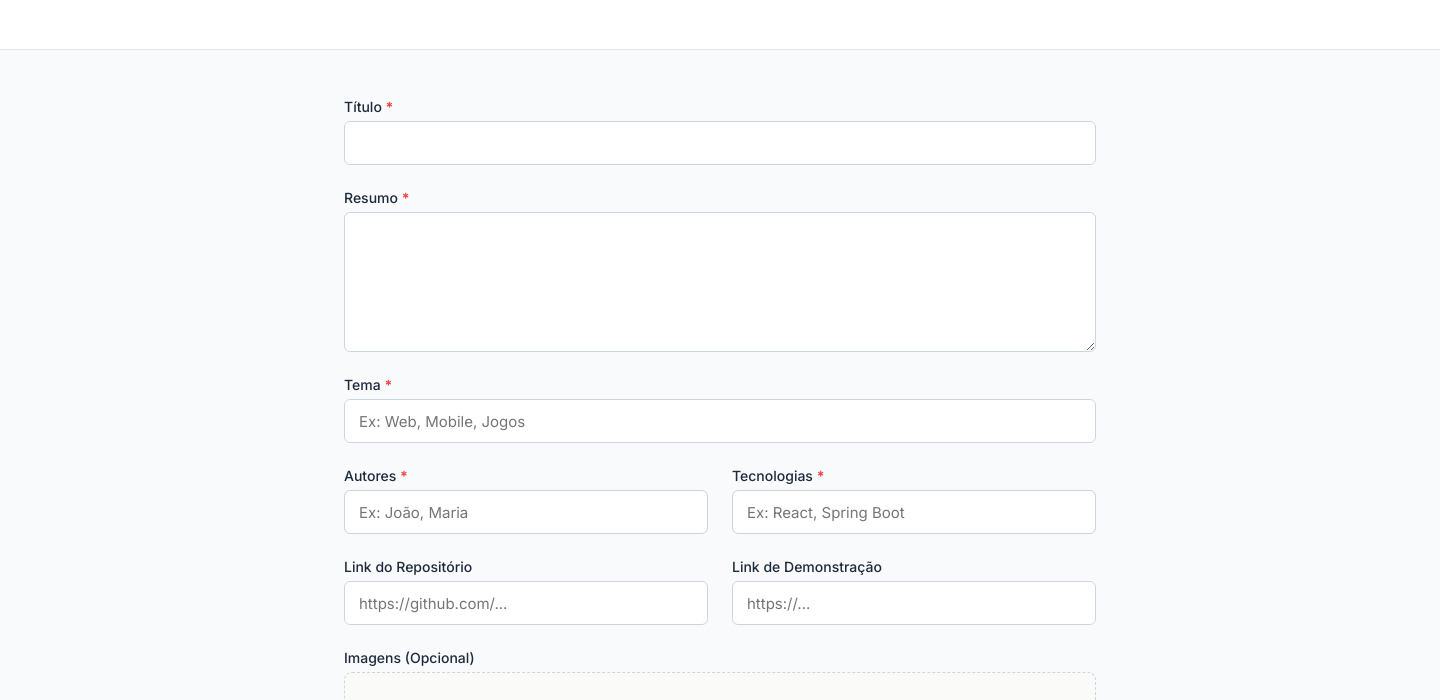
Test: Submissão de projeto › mostra o erro da API quando os metadados não são salvos
This screenshot has width=1440, height=700.
Type "Projeto Teste" into the field labelled "Título *".
click(720, 143); type("Projeto Teste")  # box [344, 121, 1096, 165]
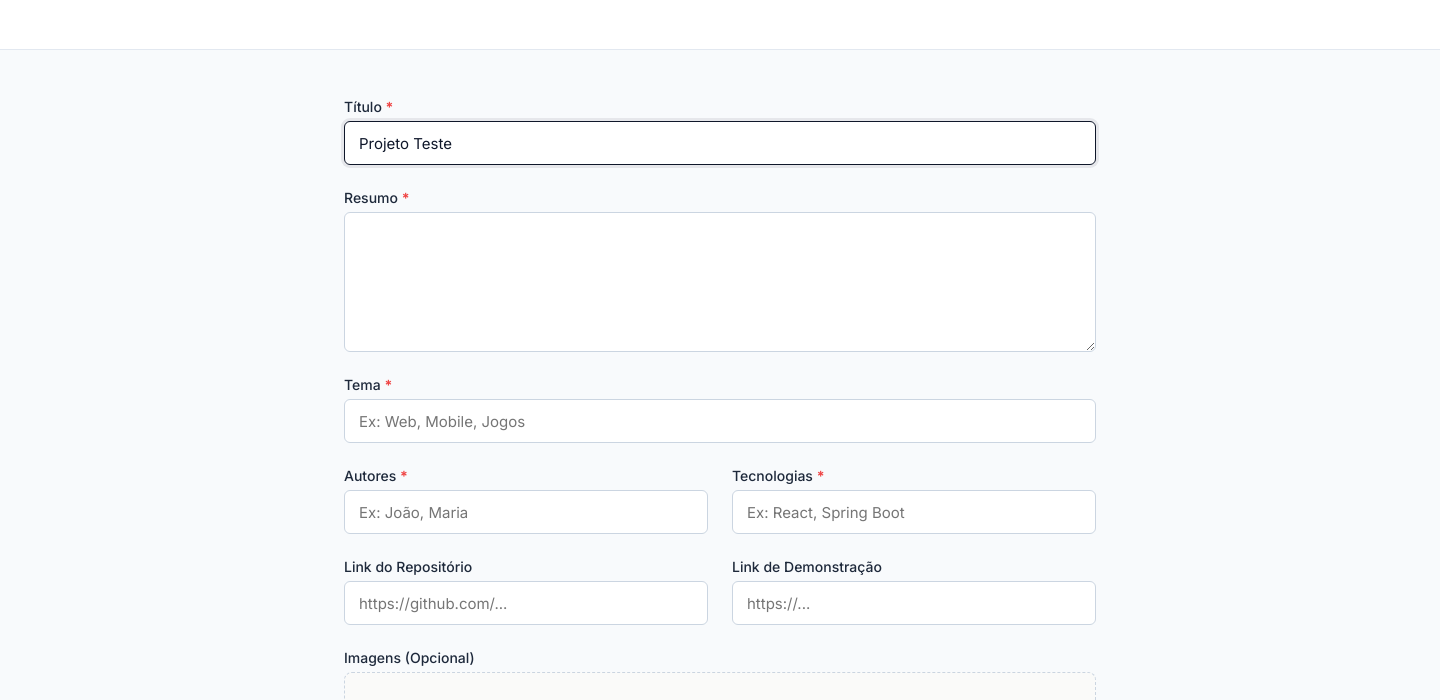
Type "Resumo do projeto" into the text box labelled "Resumo *".
click(720, 282); type("Resumo do projeto")  # box [344, 212, 1096, 352]
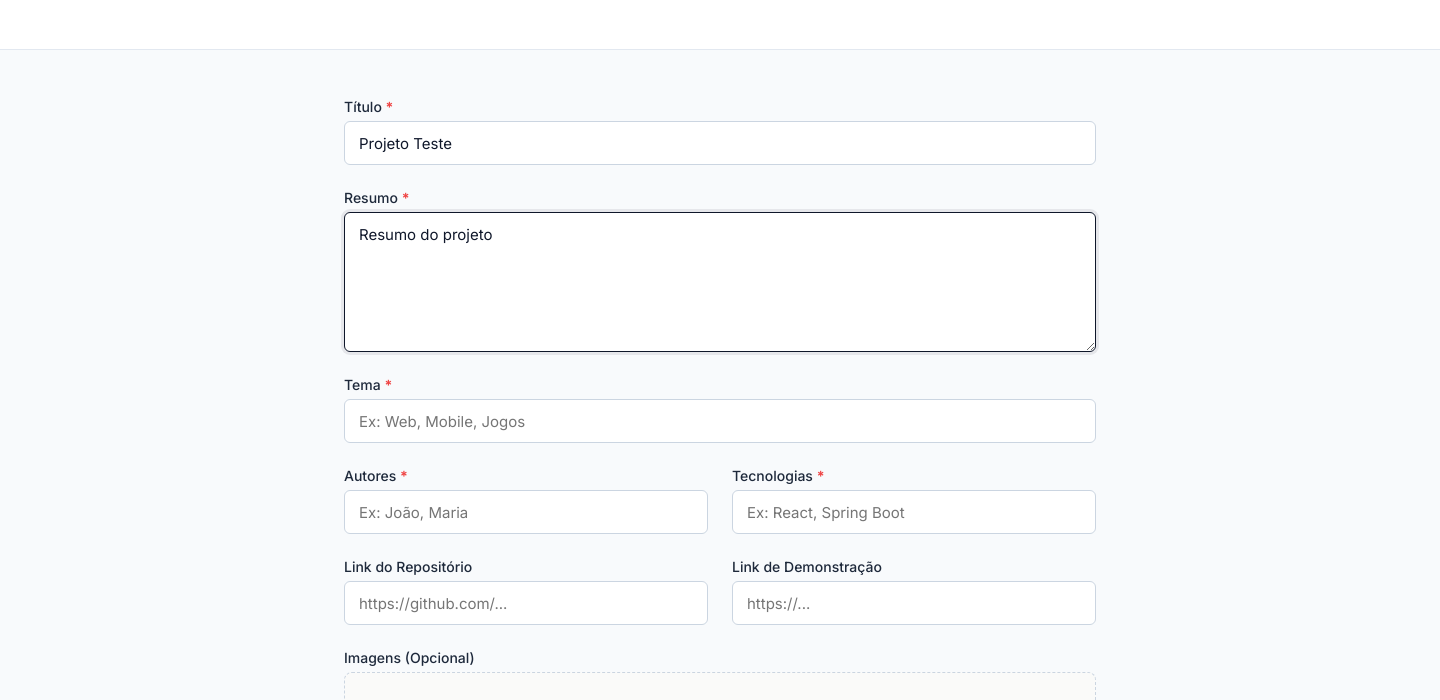
Type "Web" into the field labelled "Tema *".
click(720, 421); type("Web")  # box [344, 399, 1096, 443]
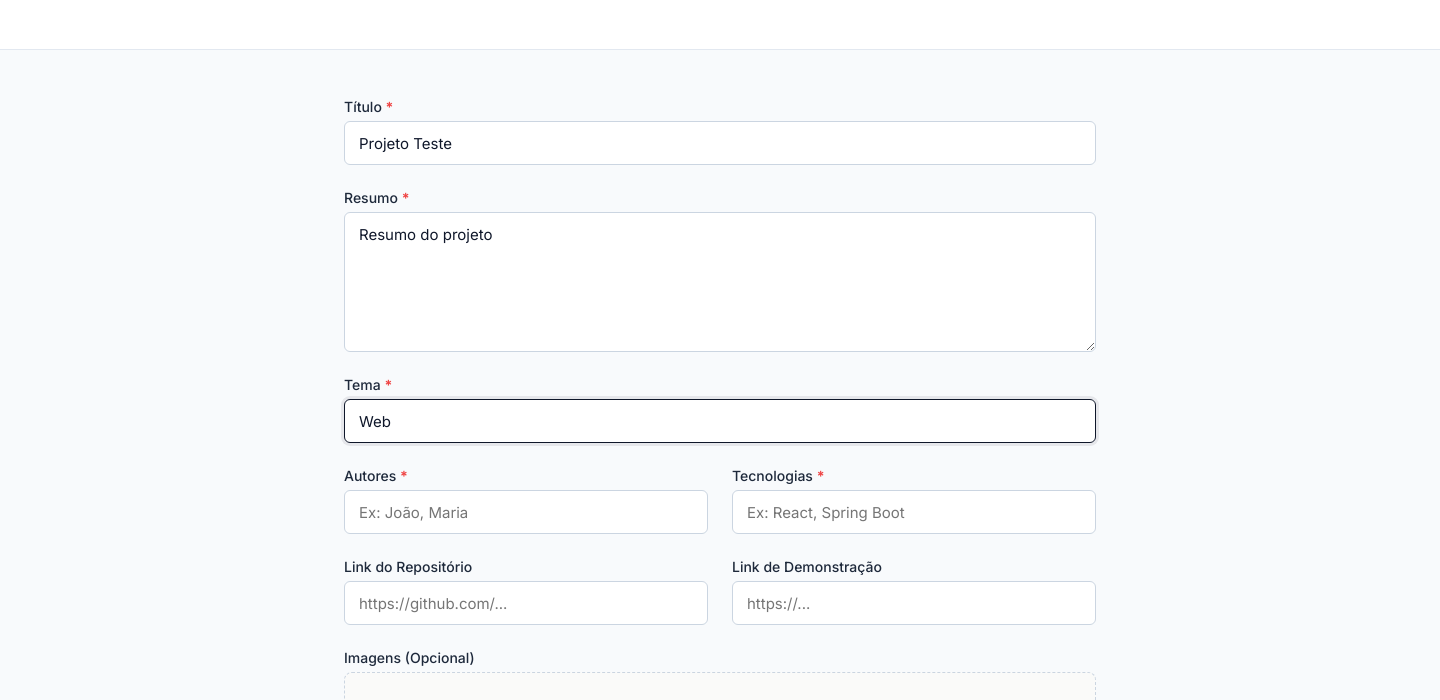
Type "Ana Lima, Bruno Reis" into the field labelled "Autores *".
click(526, 512); type("Ana Lima, Bruno Reis")  # box [344, 490, 708, 534]
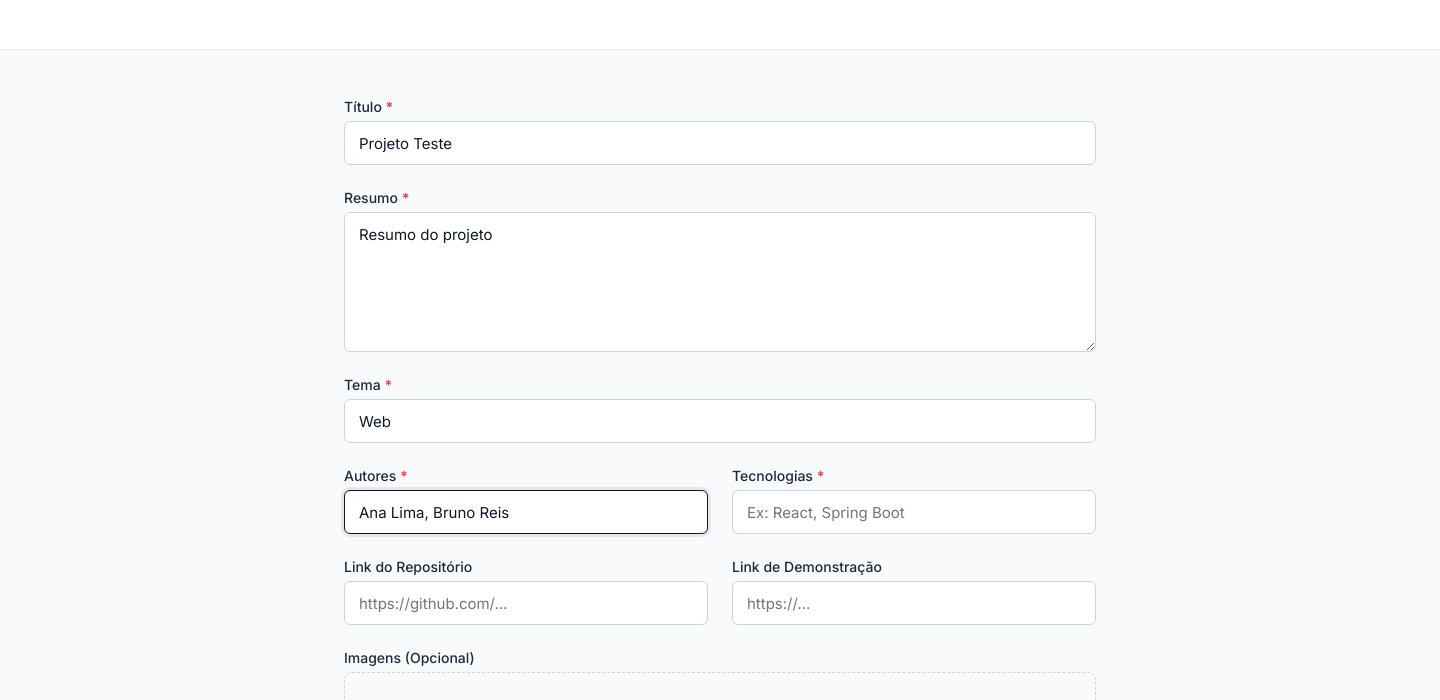
Type "React, Spring Boot" into the field labelled "Tecnologias *".
click(914, 512); type("React, Spring Boot")  # box [732, 490, 1096, 534]
(page scrolled)
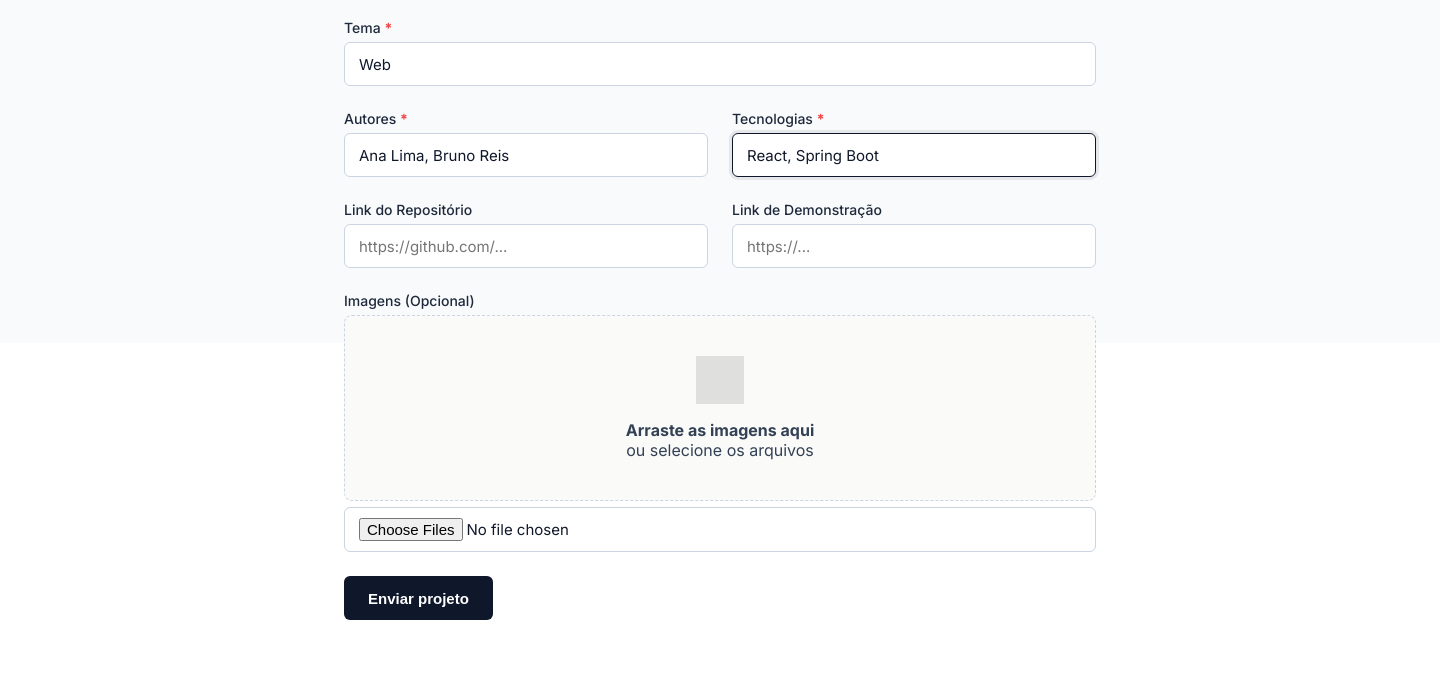
Click the button "Enviar projeto".
click(418, 598)  # box [344, 576, 493, 620]
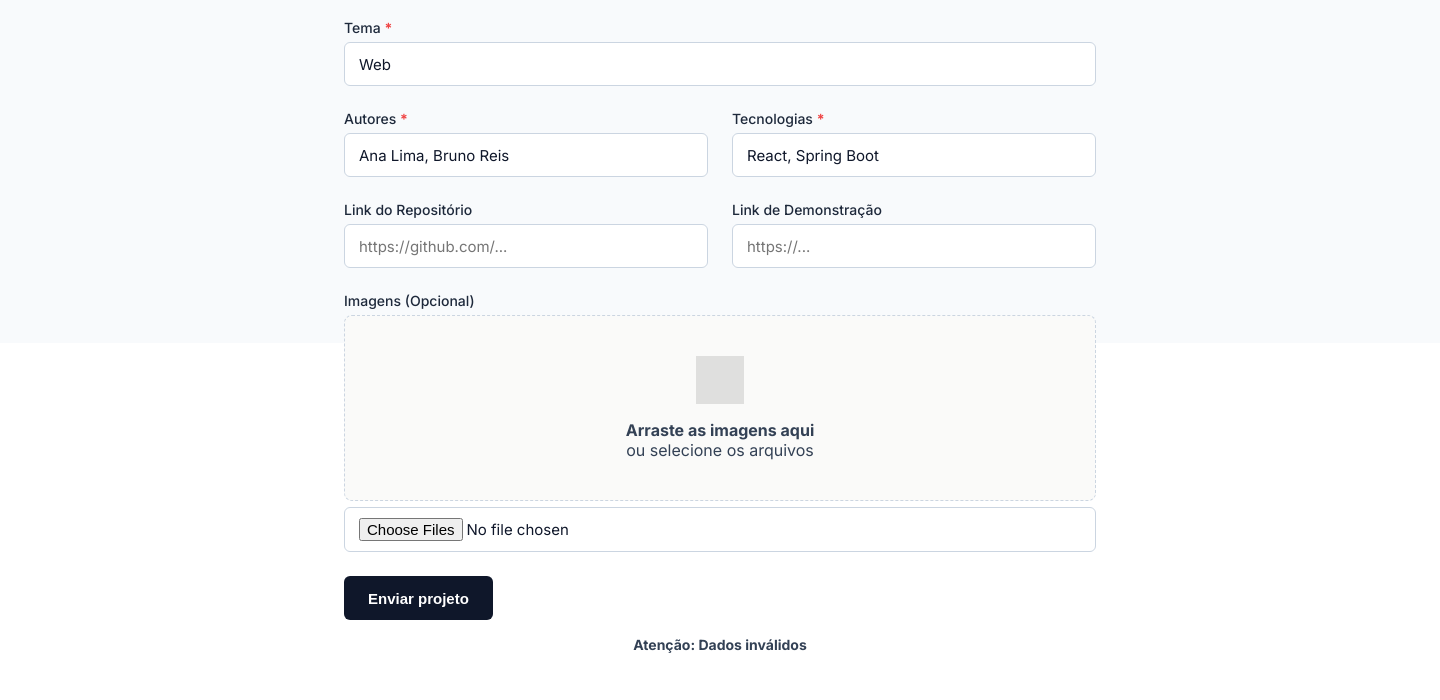
Now the text "Atenção: Dados inválidos" is shown, box [633, 636, 807, 653]
